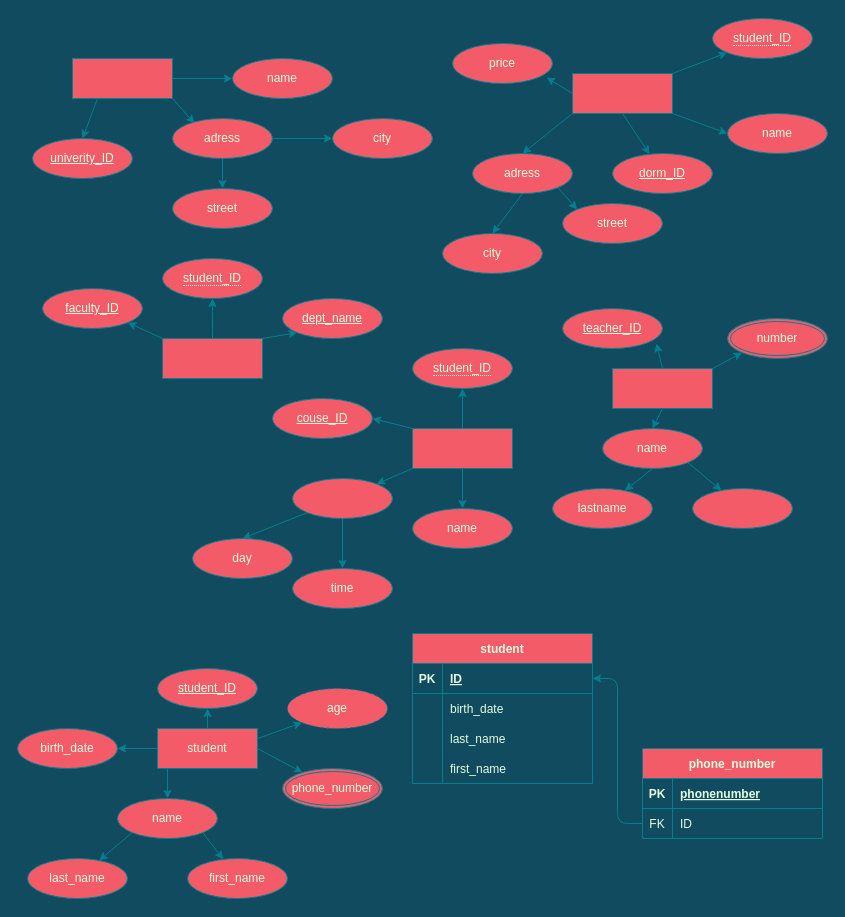
Some shapes in this 845 by 917 pixel diagram are drawn without their labels. Here are the shapes that lost their labels. From the top down, the centre of each, then its label:
the point at 122,78: university
the point at 622,93: dormitory
the point at 212,358: office_of_register
the point at 662,388: teacher
the point at 462,448: course
the point at 342,498: schedule
the point at 742,508: firstname
